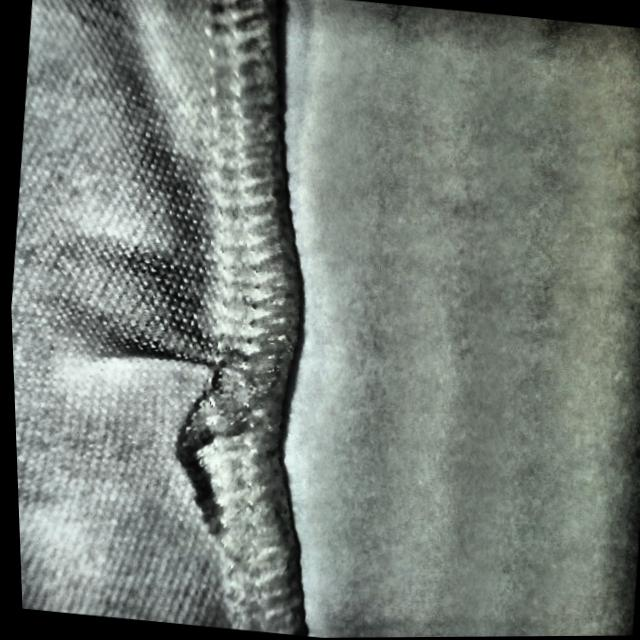seam: (96, 310, 300, 513)
